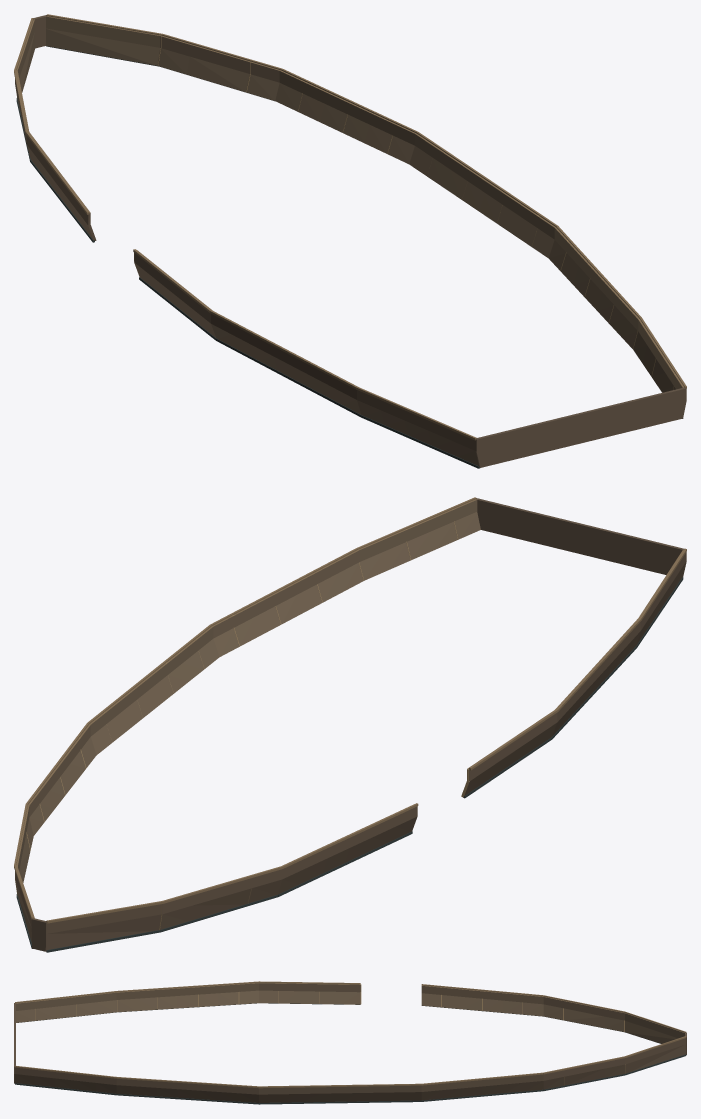
The model's file is S2_Hull_MainSides.fbx.
3 views of the same model, one above another, from view 1: azimuth 30°, elevation 25°; view 2: azimuth 150°, elevation 25°; view 3: azimuth 270°, elevation 25° (orthographic). The views are drawn at different scales.
Visible parts, largest first — view 1: S2_Hull_MainSides; view 2: S2_Hull_MainSides; view 3: S2_Hull_MainSides.
Part boxes in pixels (bbox=[...]): S2_Hull_MainSides: bbox=[14, 14, 686, 468]; S2_Hull_MainSides: bbox=[14, 497, 686, 952]; S2_Hull_MainSides: bbox=[14, 981, 686, 1104].
Size of the model in its own units: 36.8 by 3.17 by 99.3.
